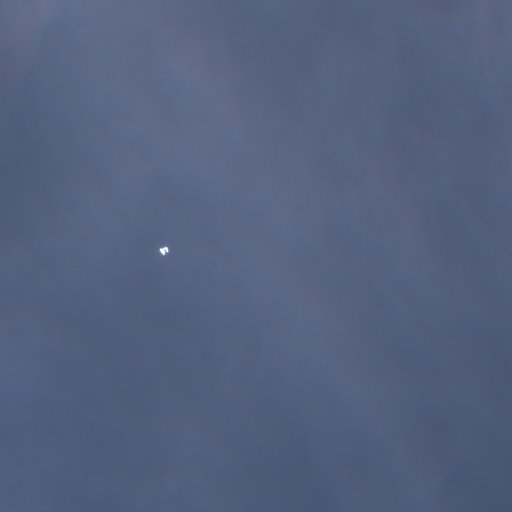Iceberg: (159, 247, 168, 255)
